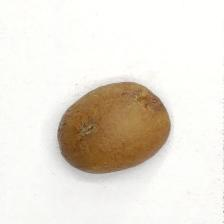NG: (133, 84, 166, 116), (77, 117, 103, 141)
